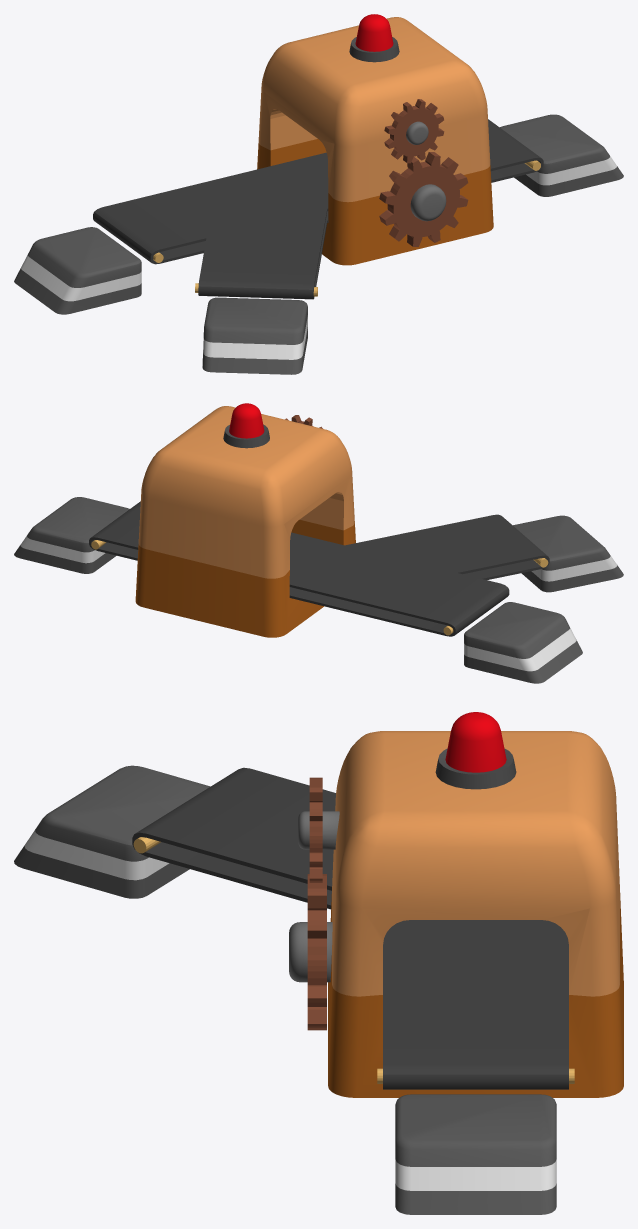
File: makina2-ayakkabi.fbx
3 views of the same model, one above another, from view 1: azimuth 30°, elevation 25°; view 2: azimuth 150°, elevation 25°; view 3: azimuth 270°, elevation 25° (orthographic). The views are drawn at different scales.
Parts seen in each view (by area): view 1: govde.003, palet.012, stack.010, palet.002, stack.002, cark2, cark1, lamba.001; view 2: govde.003, palet.012, stack.010, palet.002, stack.002, lamba.001; view 3: govde.003, palet.012, stack.010, palet.002, stack.002, lamba.001, cark2, cark1.
Part boxes in pixels (box(x1,y1,x2,y2)): govde.003: box(257, 17, 493, 265); palet.012: box(93, 119, 543, 264); stack.010: box(14, 114, 623, 314); palet.002: box(195, 209, 327, 299); stack.002: box(202, 297, 307, 374); cark2: box(379, 152, 468, 246); cark1: box(384, 99, 444, 163); lamba.001: box(349, 14, 399, 62); govde.003: box(135, 406, 355, 637); palet.012: box(89, 501, 509, 636); stack.010: box(14, 497, 582, 683); palet.002: box(345, 514, 549, 579); stack.002: box(513, 515, 623, 592); lamba.001: box(223, 403, 269, 448); govde.003: box(328, 731, 623, 1097); palet.012: box(377, 920, 574, 1089); stack.010: box(395, 1094, 556, 1214); palet.002: box(132, 767, 335, 909); stack.002: box(14, 765, 210, 898); lamba.001: box(435, 712, 516, 789); cark2: box(289, 874, 332, 1030); cark1: box(298, 777, 339, 882).
Bounding box in the file's own units: 761 × 254 × 440.
